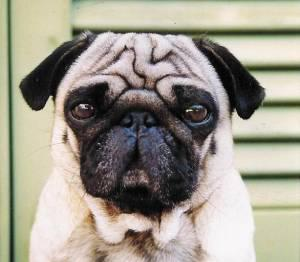dog-pug: (18, 29, 264, 210)
